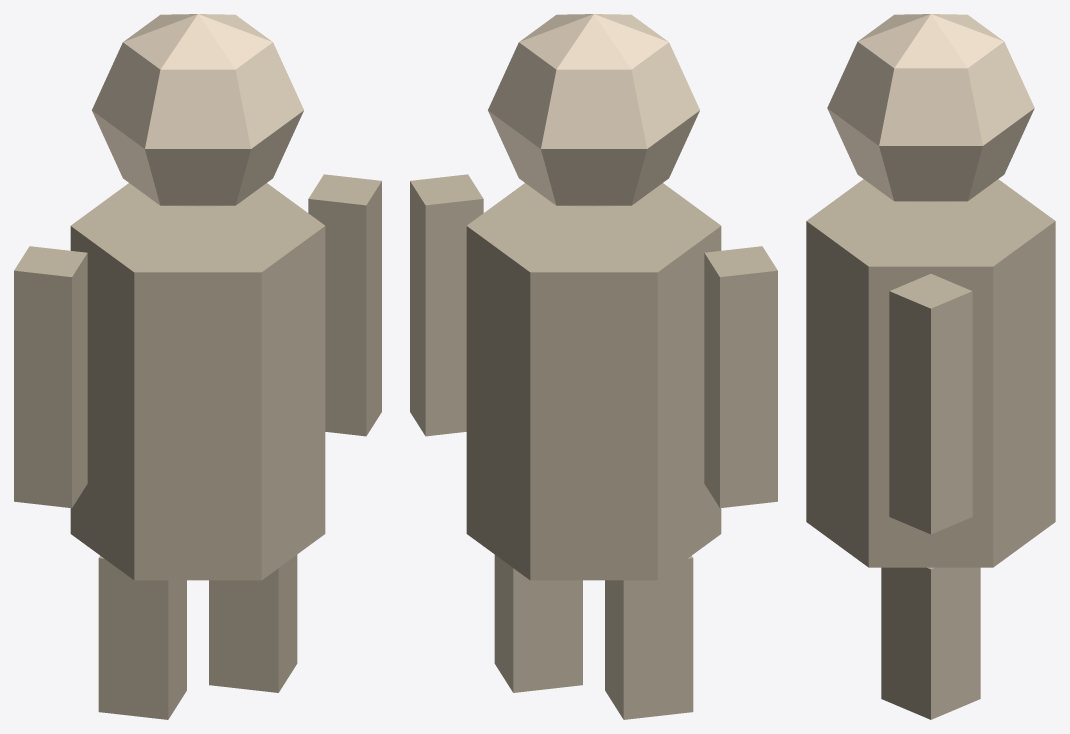
File: vintner.glb
The picture shows the model from 3 angles, left to right: view 1: azimuth 30°, elevation 25°; view 2: azimuth 150°, elevation 25°; view 3: azimuth 270°, elevation 25°; orthographic projection. The views are drawn at different scales.
Parts seen in each view (by area): view 1: vintner_torso, vintner_head, vintner_arm_l, vintner_arm_r, vintner_leg_l, vintner_leg_r; view 2: vintner_torso, vintner_head, vintner_arm_l, vintner_arm_r, vintner_leg_l, vintner_leg_r; view 3: vintner_torso, vintner_head, vintner_arm_r, vintner_leg_r.
Part boxes in pixels (left/top/right/bottom): vintner_torso: left=70, top=183, right=325, bottom=580; vintner_head: left=92, top=14, right=303, bottom=206; vintner_arm_l: left=14, top=246, right=87, bottom=508; vintner_arm_r: left=308, top=174, right=381, bottom=436; vintner_leg_l: left=98, top=555, right=186, bottom=719; vintner_leg_r: left=209, top=555, right=297, bottom=692; vintner_torso: left=466, top=183, right=721, bottom=580; vintner_head: left=488, top=14, right=699, bottom=206; vintner_arm_l: left=704, top=246, right=777, bottom=508; vintner_arm_r: left=410, top=174, right=483, bottom=436; vintner_leg_l: left=605, top=555, right=693, bottom=719; vintner_leg_r: left=494, top=555, right=582, bottom=692; vintner_torso: left=806, top=179, right=1055, bottom=567; vintner_head: left=827, top=14, right=1034, bottom=201; vintner_arm_r: left=889, top=274, right=972, bottom=534; vintner_leg_r: left=881, top=567, right=980, bottom=719.
Bounding box in the file's own units: 0.375 × 0.6562 × 0.225.
